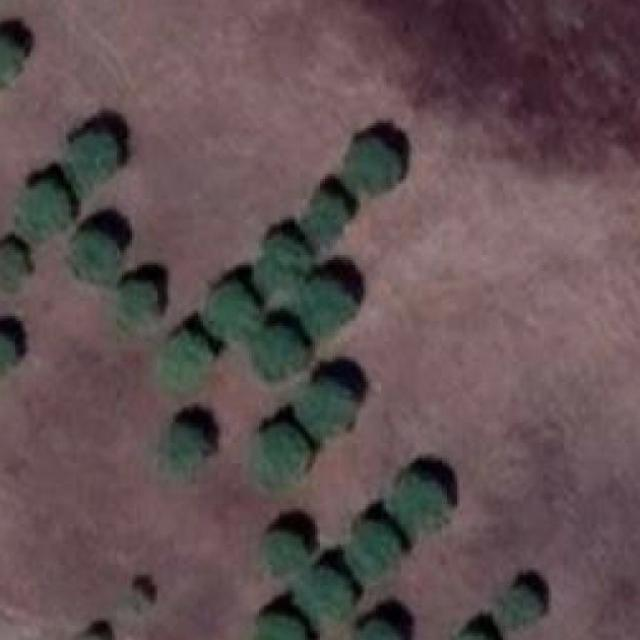Tree: (388, 477, 447, 538), (344, 522, 398, 576), (256, 428, 307, 483), (344, 141, 398, 192), (71, 133, 117, 192), (304, 280, 354, 334), (160, 331, 210, 382), (300, 382, 350, 433), (22, 184, 68, 238), (300, 573, 356, 617), (210, 284, 259, 334), (261, 238, 305, 292), (256, 329, 302, 375), (73, 233, 117, 278), (119, 280, 157, 326), (165, 428, 203, 473), (497, 590, 540, 629), (310, 194, 345, 238), (264, 531, 303, 570), (256, 617, 305, 640), (0, 247, 26, 288), (351, 622, 402, 640), (0, 36, 19, 82), (0, 336, 15, 377)
